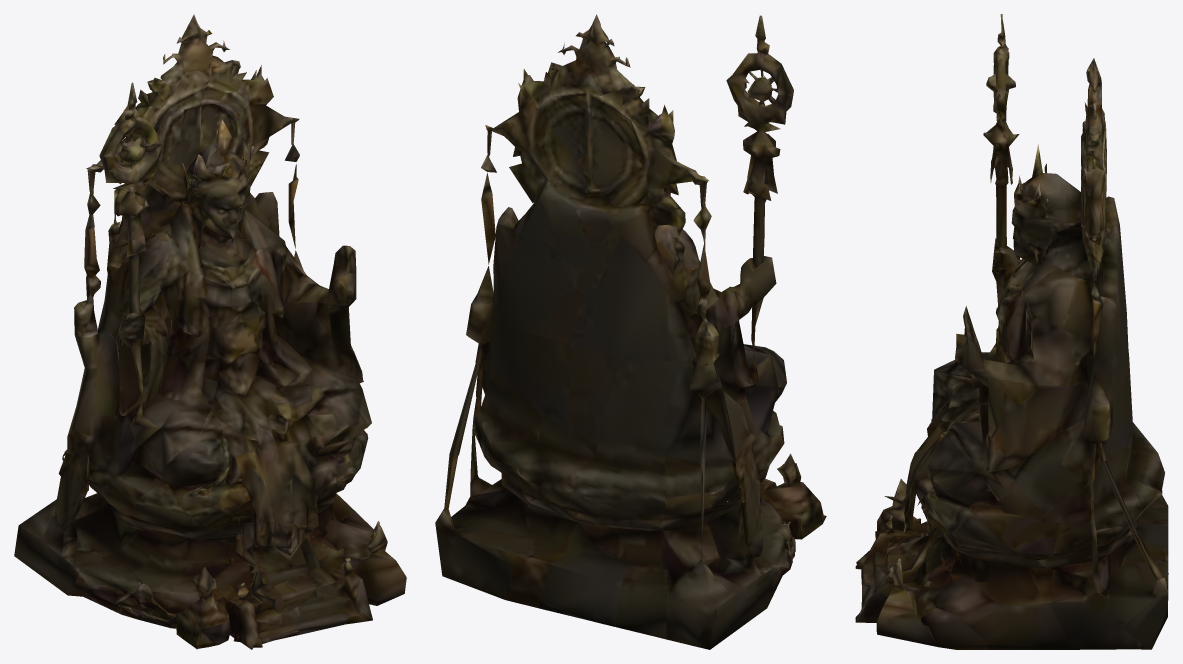
File: mob_wuming.glb
3 views of the same model, side by side, from view 1: azimuth 30°, elevation 25°; view 2: azimuth 150°, elevation 25°; view 3: azimuth 270°, elevation 25° (orthographic). The views are drawn at different scales.
Parts seen in each view (by area): view 1: tripo_node_ad84f2a1-802f-4625-b9dd-3899bbafd8f0; view 2: tripo_node_ad84f2a1-802f-4625-b9dd-3899bbafd8f0; view 3: tripo_node_ad84f2a1-802f-4625-b9dd-3899bbafd8f0.
Boxes of the visible parts, x1,y1,x2,y2 form: tripo_node_ad84f2a1-802f-4625-b9dd-3899bbafd8f0: [14, 14, 406, 649]; tripo_node_ad84f2a1-802f-4625-b9dd-3899bbafd8f0: [435, 14, 826, 649]; tripo_node_ad84f2a1-802f-4625-b9dd-3899bbafd8f0: [855, 14, 1168, 649].
Size of the model in its own units: 0.4977 by 0.9771 by 0.5176.
1 material, 1 textured.
